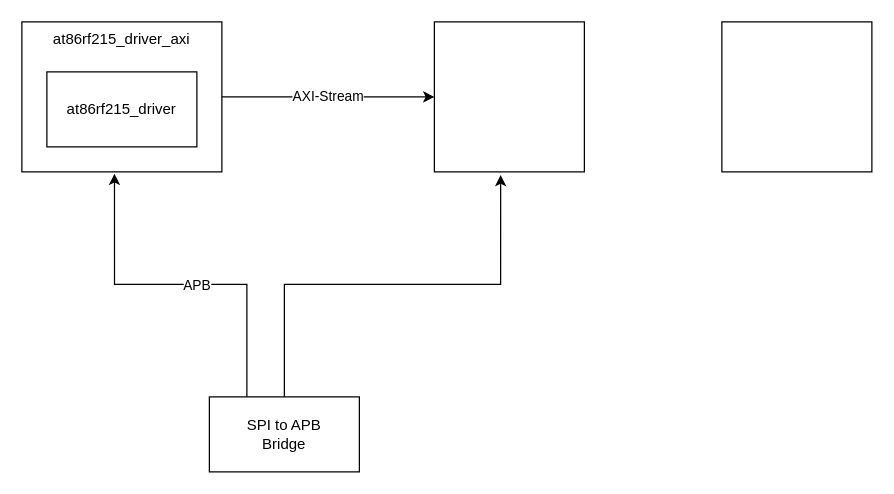
The diagram is 894 pixels wide and 494 high, and some of its shapes have lost their labels. Here are the shapes that lost their labels. From the top down, the centre of each, then its label:
the point at 508,96: deframer
the point at 796,96: wm8960_driver_axi
